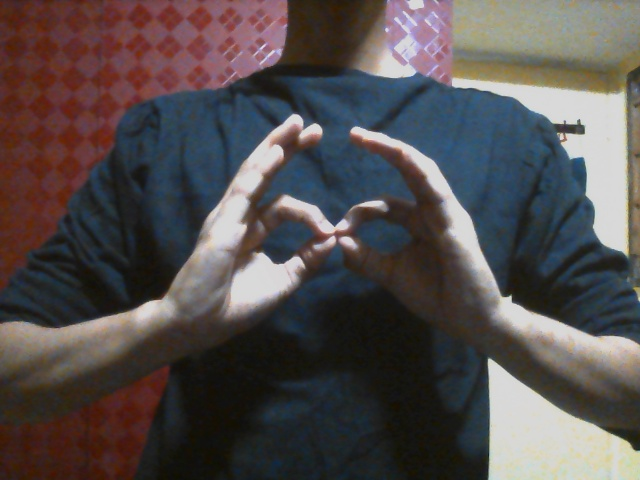B: (163, 112, 493, 377)
